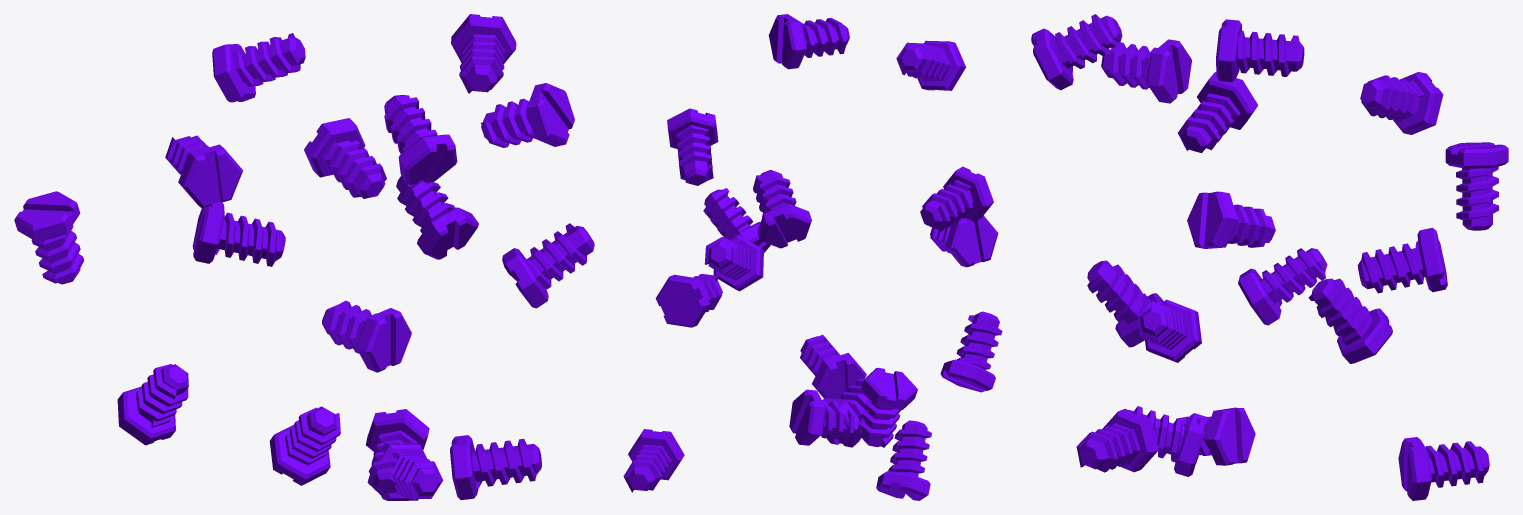
The model's file is screwscatter.glb.
3 renders of one model, left to right at view 1: azimuth 30°, elevation 25°; view 2: azimuth 150°, elevation 25°; view 3: azimuth 270°, elevation 25°, orthographic. The views are drawn at different scales.
Parts seen in each view (by area): view 1: 円柱.038, 円柱.034, 円柱.006, 円柱.020, 円柱.035, 円柱.017, 円柱.026, 円柱.011, 円柱.008, 円柱.015, 円柱.043, 円柱.023 (+4 smaller); view 2: 円柱.046, 円柱.038, 円柱.020, 円柱.043, 円柱.001, 円柱.034, 円柱.011, 円柱.006, 円柱.031, 円柱.017, 円柱.035, 円柱.026 (+4 smaller); view 3: 円柱.046, 円柱.011, 円柱.035, 円柱.034, 円柱.006, 円柱.038, 円柱.001, 円柱.017, 円柱.020, 円柱.026, 円柱.008, 円柱.023 (+4 smaller).
Part boxes in pixels (<box>): 円柱.038: <box>14,191,84,284</box>; 円柱.034: <box>481,83,574,147</box>; 円柱.006: <box>384,95,457,184</box>; 円柱.020: <box>212,33,305,102</box>; 円柱.035: <box>322,300,411,372</box>; 円柱.017: <box>304,118,386,198</box>; 円柱.026: <box>450,435,541,500</box>; 円柱.011: <box>117,364,188,445</box>; 円柱.008: <box>192,201,285,266</box>; 円柱.015: <box>502,223,594,308</box>; 円柱.043: <box>269,406,340,485</box>; 円柱.023: <box>396,175,478,259</box>; 円柱.046: <box>768,14,849,69</box>; 円柱.038: <box>858,367,917,447</box>; 円柱.020: <box>753,170,811,248</box>; 円柱.043: <box>940,311,1002,392</box>; 円柱.001: <box>920,166,993,231</box>; 円柱.034: <box>667,108,718,185</box>; 円柱.011: <box>876,420,931,500</box>; 円柱.006: <box>896,40,965,90</box>; 円柱.031: <box>789,389,865,445</box>; 円柱.017: <box>655,274,722,327</box>; 円柱.035: <box>623,429,684,492</box>; 円柱.026: <box>800,334,866,399</box>; 円柱.046: <box>1101,39,1191,103</box>; 円柱.011: <box>1308,278,1392,363</box>; 円柱.035: <box>1398,437,1489,500</box>; 円柱.034: <box>1187,191,1275,248</box>; 円柱.006: <box>1031,14,1122,90</box>; 円柱.038: <box>1445,142,1508,230</box>; 円柱.001: <box>1216,19,1304,82</box>; 円柱.017: <box>1357,227,1447,293</box>; 円柱.020: <box>1360,72,1443,134</box>; 円柱.026: <box>1076,408,1158,472</box>; 円柱.008: <box>1178,72,1258,153</box>; 円柱.023: <box>1238,248,1327,325</box>.
Size of the model in its own units: 14.81 by 16.07 by 15.1.
